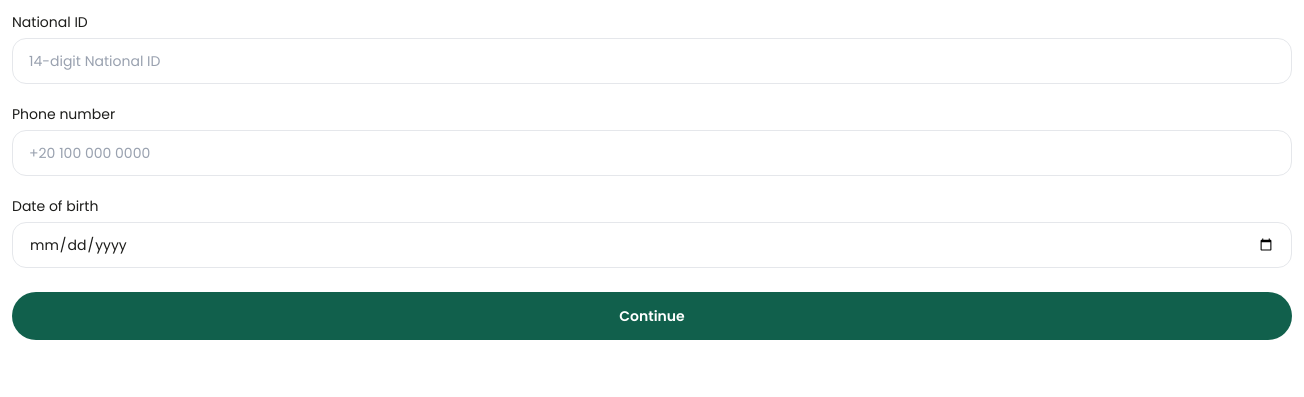
Test: PatientForgotPasswordForm › shows an identity error when step 1 fails with an ApiError
Type "12345678901234" into the field labelled "National ID" at (652, 61), box [12,38,1292,84]
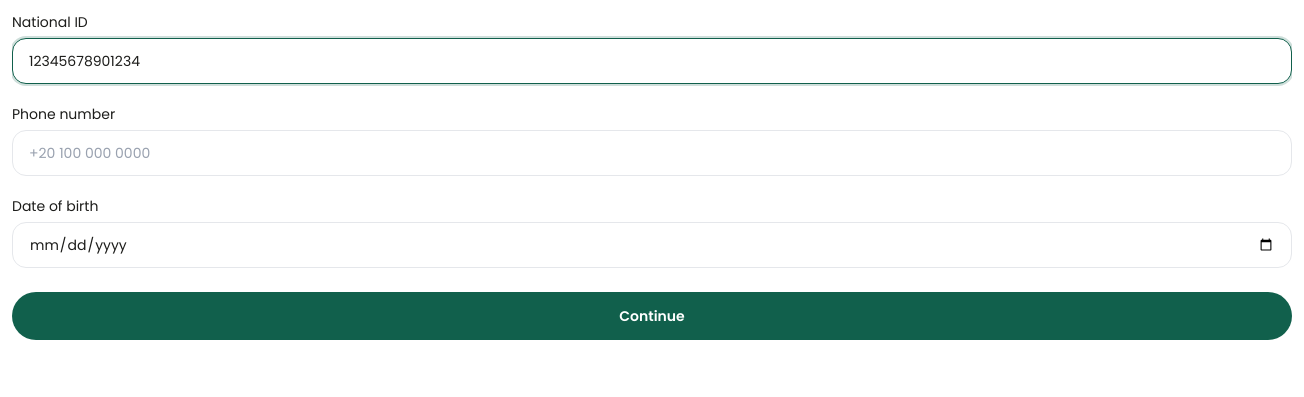
Type "01012345678" into the field labelled "Phone number" at (652, 153), box [12,130,1292,176]
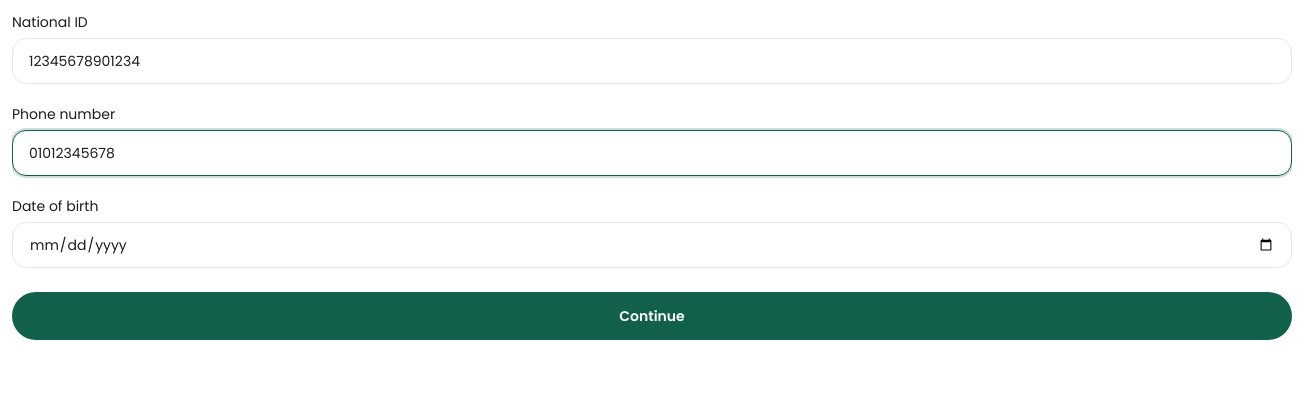
Type "1990-01-01" into the date field labelled "Date of birth" at (652, 245), box [12,222,1292,268]
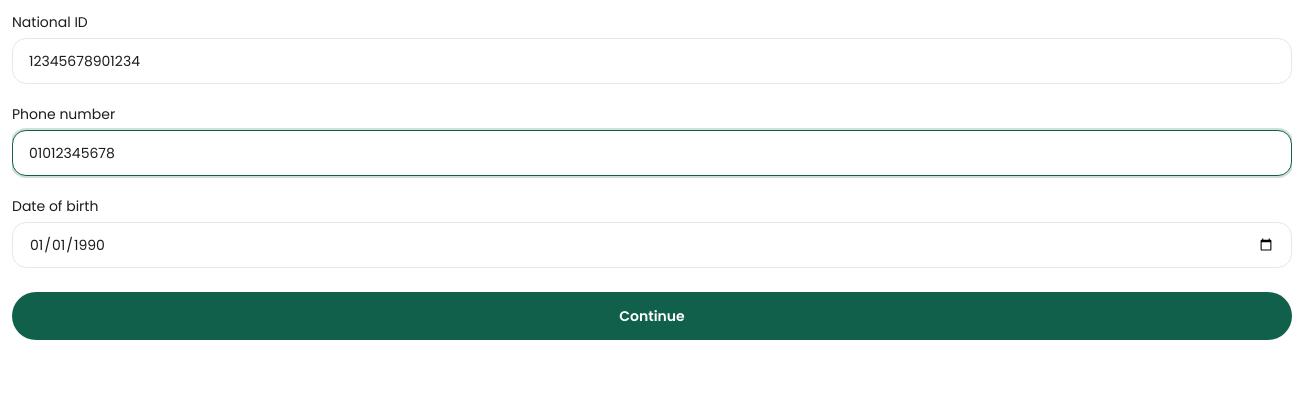
Click the button "Continue" at (652, 316), box [12,292,1292,340]
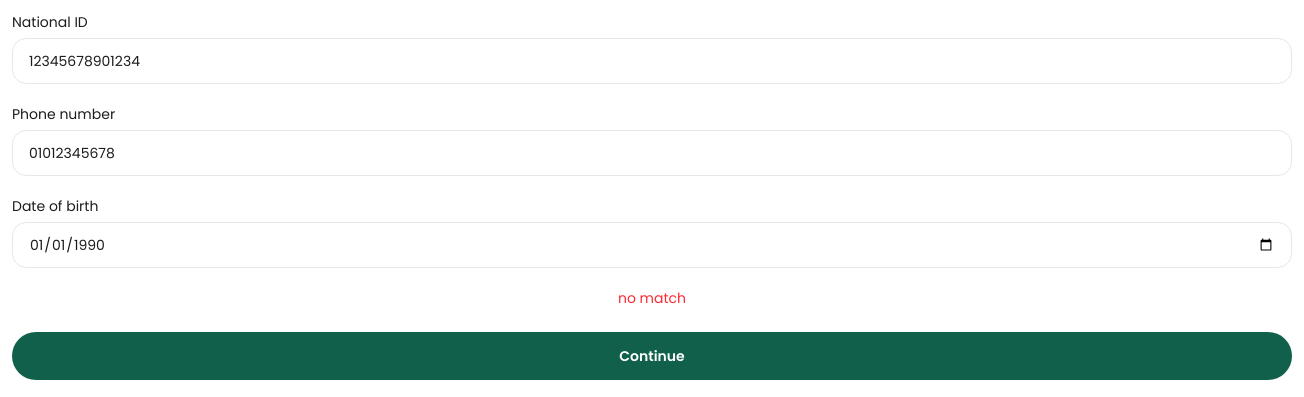
Result: the text "no match" is shown at [618,288,686,308]
